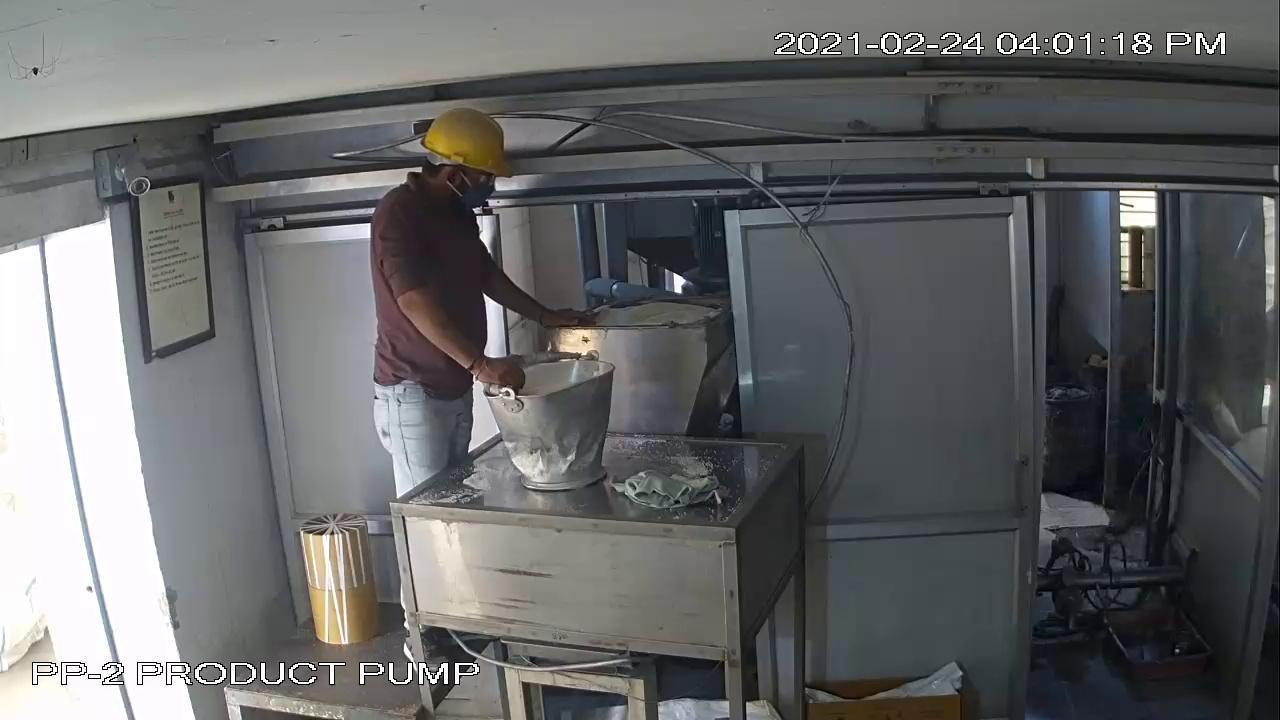helmet: (401, 100, 530, 189)
